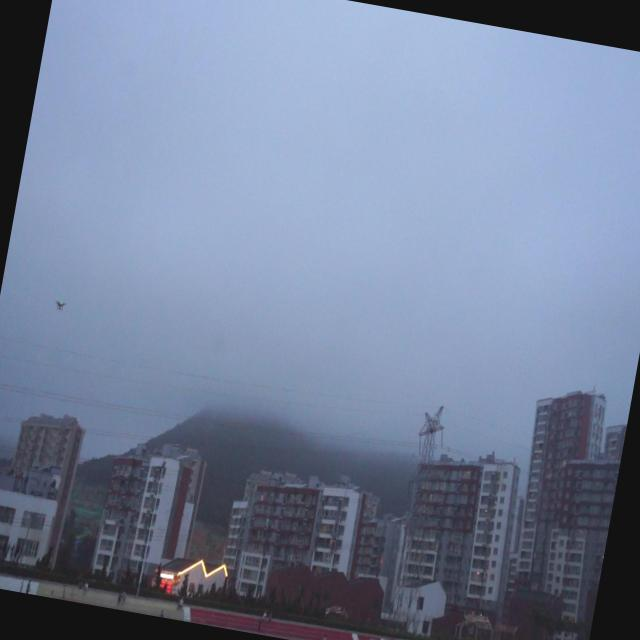drone: (51, 293, 68, 318)
